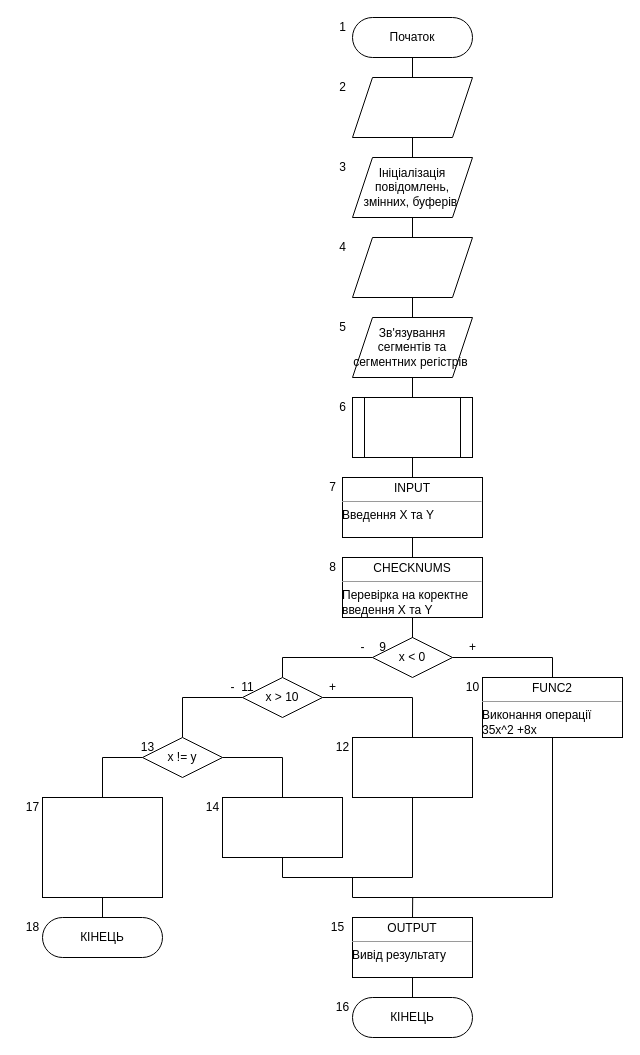
This 640x1055 diagram has some shape labels left out. The centre of each missing label's shape, as x and y in pixels:
"FUNC1 Виконання операції (15x-1)/(y(x-y))" goes at [282,827].
"FUNC3 Виконання операції (10-x)^2" goes at [412,767].
"WRONG_DATA Поміщення у DX повідомлення MSG_WRONG_DATA та виклик помилки" goes at [102,847].
"Виділення пам'яті під стек" goes at [412,107].
"Опис сегменту коду" goes at [412,267].
"Отримання адреси повернення та ініціалізація DS" goes at [412,427].
